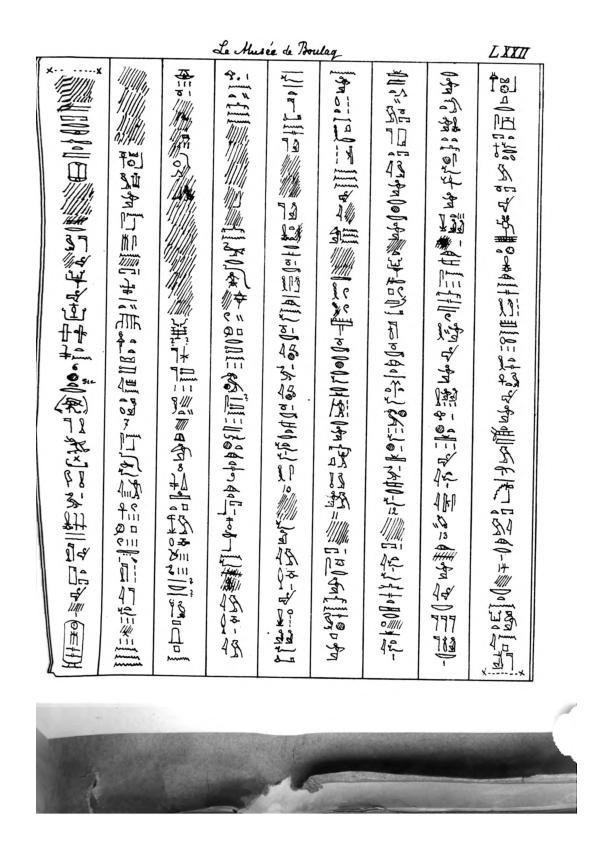circle: (60, 618, 86, 670)
